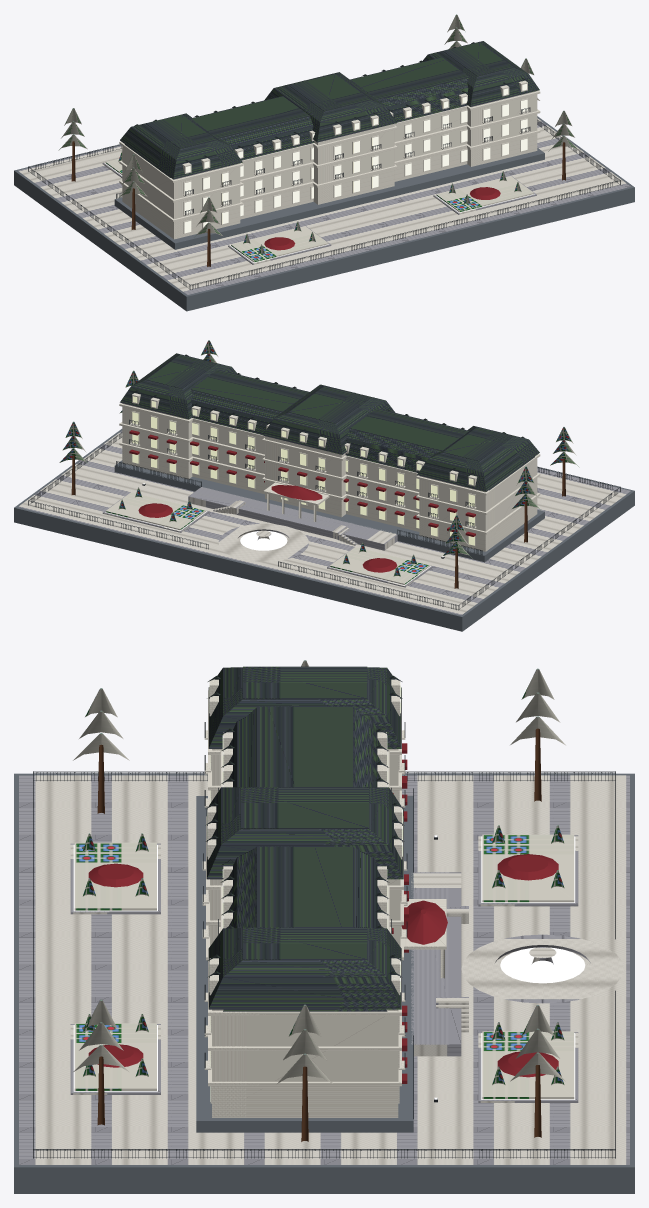
File: ultra_lm_12_dalat_palace_heritage.glb
3 renders of one model, top to bottom at view 1: azimuth 30°, elevation 25°; view 2: azimuth 150°, elevation 25°; view 3: azimuth 270°, elevation 25°, orthographic. The views are drawn at different scales.
Visible parts, largest first — view 1: WhiteGravel_Esplanade_And_Stairs_1024PBR, BelleEpoque_78m_Ivory_Facade_1024PBR, Ardoise_Mansard_Roofs_And_34_Dormers_1024PBR, Foundation_Skirt_And_Rusticated_Plinth, Palace_French_Parterre_And_Pines_1024PBR, Arched_Ballroom_And_Suite_Glass, BelleEpoque_WroughtIron_Balconies, Burgundy_Window_Awnings_And_Canopy, Pine_Trunks_And_Doors; view 2: WhiteGravel_Esplanade_And_Stairs_1024PBR, BelleEpoque_78m_Ivory_Facade_1024PBR, Ardoise_Mansard_Roofs_And_34_Dormers_1024PBR, Foundation_Skirt_And_Rusticated_Plinth, Palace_French_Parterre_And_Pines_1024PBR, BelleEpoque_WroughtIron_Balconies, Arched_Ballroom_And_Suite_Glass, Burgundy_Window_Awnings_And_Canopy, Night_Architectural_Floodlights, Pine_Trunks_And_Doors; view 3: WhiteGravel_Esplanade_And_Stairs_1024PBR, Ardoise_Mansard_Roofs_And_34_Dormers_1024PBR, Foundation_Skirt_And_Rusticated_Plinth, BelleEpoque_78m_Ivory_Facade_1024PBR, Palace_French_Parterre_And_Pines_1024PBR, BelleEpoque_WroughtIron_Balconies, Burgundy_Window_Awnings_And_Canopy, Night_Architectural_Floodlights, Pine_Trunks_And_Doors.
Part boxes in pixels (<box>): WhiteGravel_Esplanade_And_Stairs_1024PBR: <box>18,118,630,294</box>; BelleEpoque_78m_Ivory_Facade_1024PBR: <box>119,80,540,239</box>; Ardoise_Mansard_Roofs_And_34_Dormers_1024PBR: <box>120,41,539,179</box>; Foundation_Skirt_And_Rusticated_Plinth: <box>14,116,634,311</box>; Palace_French_Parterre_And_Pines_1024PBR: <box>58,14,577,262</box>; Arched_Ballroom_And_Suite_Glass: <box>184,84,527,233</box>; BelleEpoque_WroughtIron_Balconies: <box>28,107,620,289</box>; Burgundy_Window_Awnings_And_Canopy: <box>264,187,500,250</box>; Pine_Trunks_And_Doors: <box>71,141,565,266</box>; WhiteGravel_Esplanade_And_Stairs_1024PBR: <box>18,431,630,615</box>; BelleEpoque_78m_Ivory_Facade_1024PBR: <box>119,393,540,551</box>; Ardoise_Mansard_Roofs_And_34_Dormers_1024PBR: <box>120,353,539,491</box>; Foundation_Skirt_And_Rusticated_Plinth: <box>14,429,634,631</box>; Palace_French_Parterre_And_Pines_1024PBR: <box>59,340,579,584</box>; BelleEpoque_WroughtIron_Balconies: <box>28,419,620,610</box>; Arched_Ballroom_And_Suite_Glass: <box>132,396,474,545</box>; Burgundy_Window_Awnings_And_Canopy: <box>129,430,475,572</box>; Night_Architectural_Floodlights: <box>105,483,444,585</box>; Pine_Trunks_And_Doors: <box>71,455,565,588</box>; WhiteGravel_Esplanade_And_Stairs_1024PBR: <box>19,775,629,1164</box>; Ardoise_Mansard_Roofs_And_34_Dormers_1024PBR: <box>205,666,404,1011</box>; Foundation_Skirt_And_Rusticated_Plinth: <box>14,773,634,1193</box>; BelleEpoque_78m_Ivory_Facade_1024PBR: <box>202,679,446,1117</box>; Palace_French_Parterre_And_Pines_1024PBR: <box>73,660,574,1099</box>; BelleEpoque_WroughtIron_Balconies: <box>33,722,615,1158</box>; Burgundy_Window_Awnings_And_Canopy: <box>88,743,558,1083</box>; Night_Architectural_Floodlights: <box>73,835,585,1099</box>; Pine_Trunks_And_Doors: <box>97,728,541,1141</box>.
Size of the model in its own units: 96 by 21.51 by 64.
11 materials, 4 textured.
